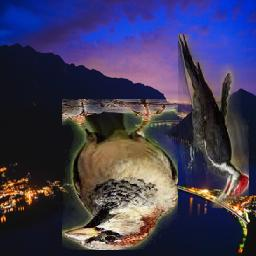Sparrow: (62, 100, 178, 251)
Woodpecker: (179, 34, 250, 208)
